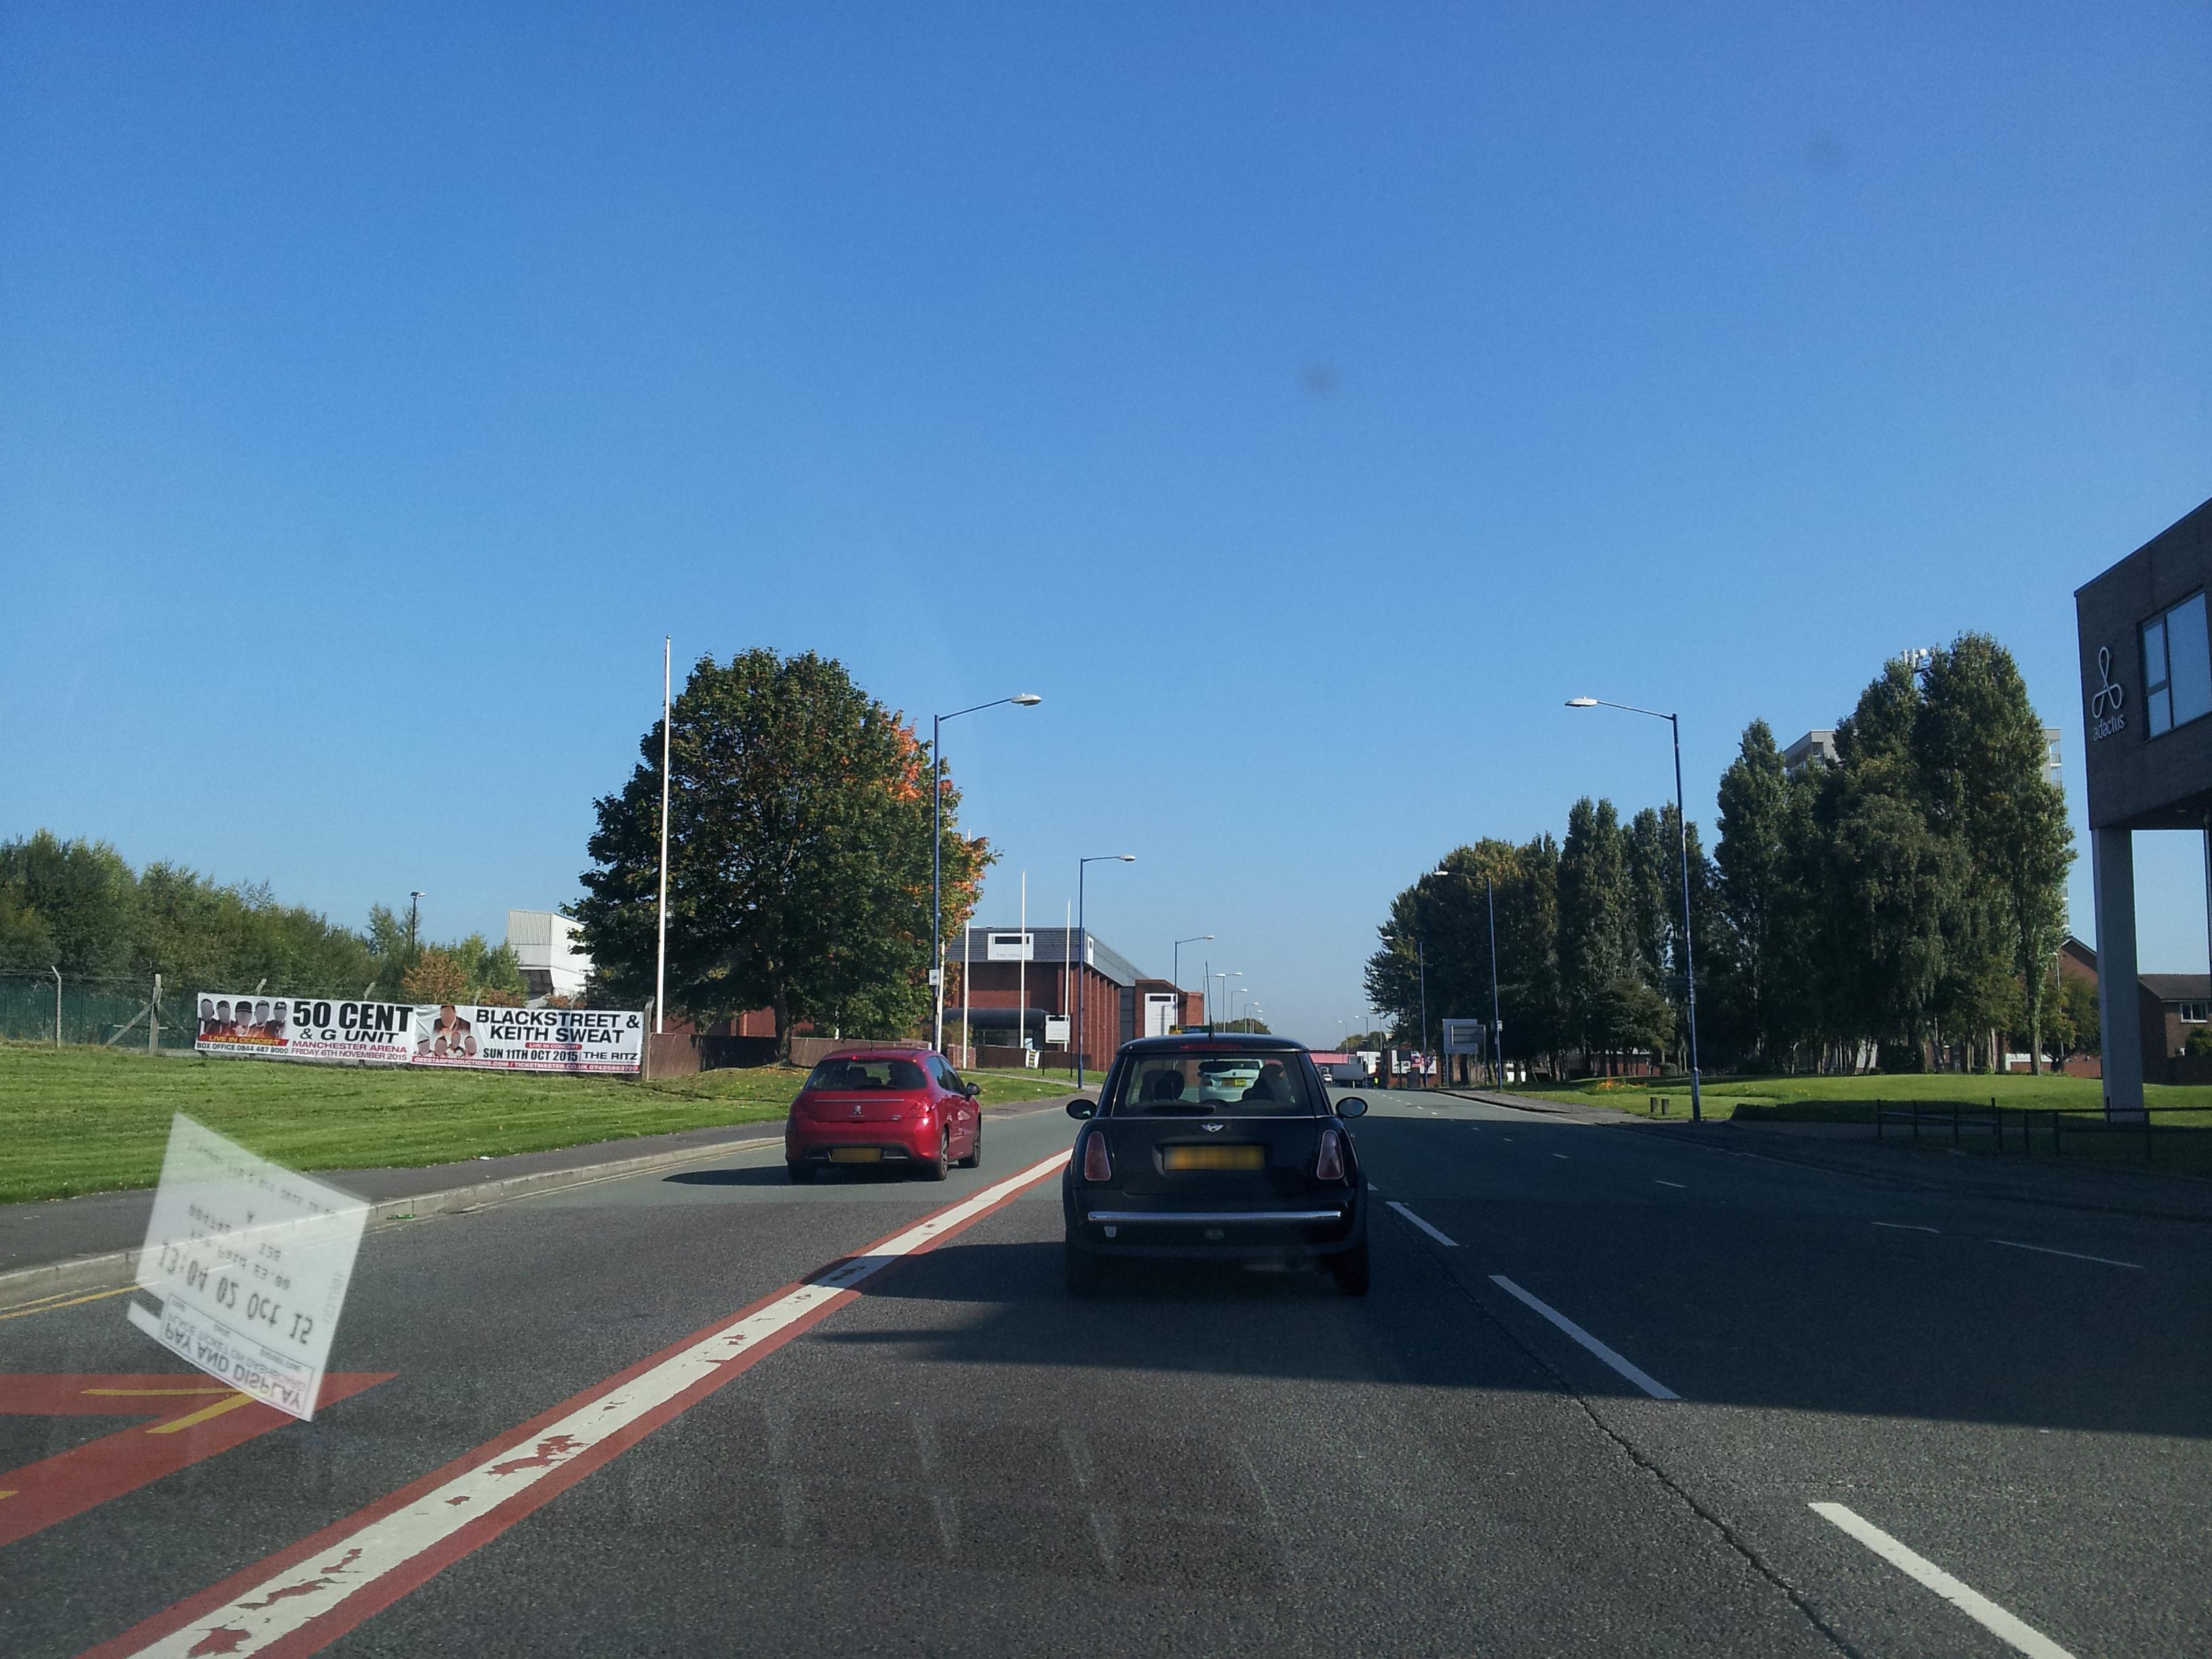vinyl banner: (181, 976, 657, 1079)
